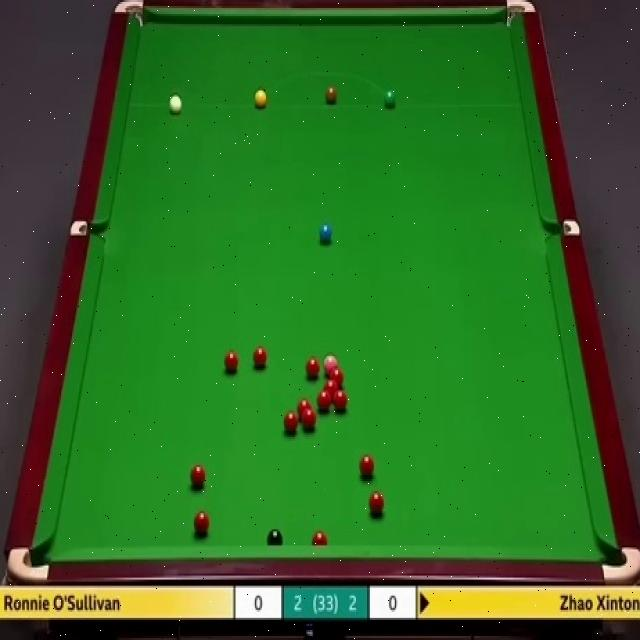black-ball: (267, 529, 284, 545)
blue-ball: (318, 224, 332, 242)
brown-ball: (326, 86, 337, 104)
green-ball: (382, 87, 398, 109)
pink-ball: (324, 354, 338, 375)
red-ball: (358, 452, 375, 478), (193, 512, 210, 536), (327, 366, 344, 390), (189, 464, 207, 486), (252, 343, 268, 367), (303, 358, 321, 379), (369, 492, 384, 516), (283, 410, 298, 434), (224, 352, 240, 372), (333, 389, 348, 409), (303, 408, 316, 428), (298, 399, 311, 418), (311, 531, 329, 544), (318, 390, 330, 409)
white-ball: (169, 95, 181, 114)
yellow-ball: (254, 89, 267, 109)
